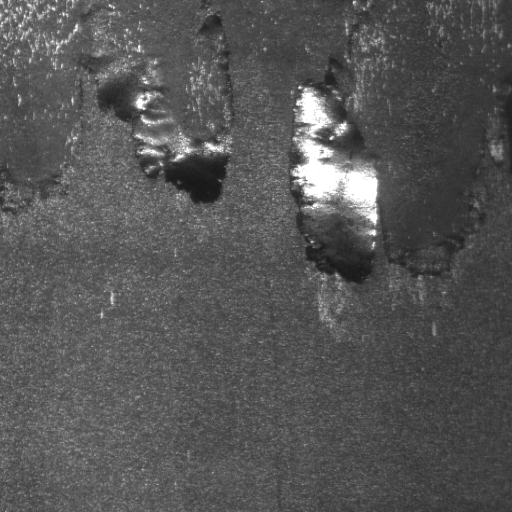qiaopi: (91, 20, 237, 205), (290, 76, 382, 286)
